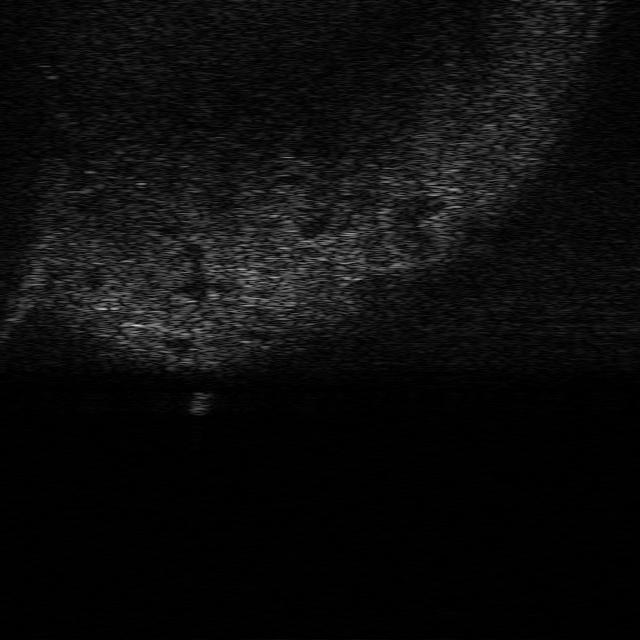cylinder: (184, 392, 218, 416)
